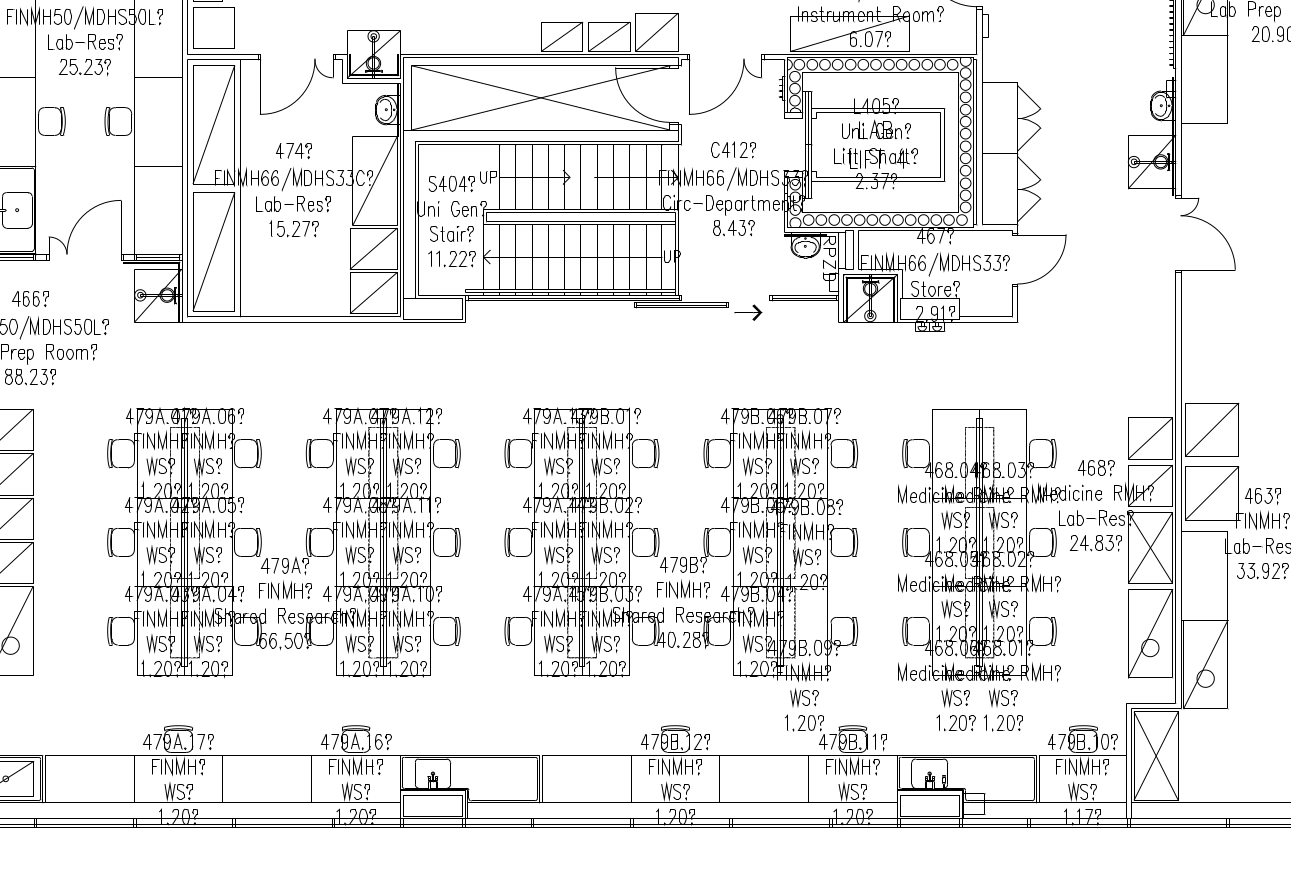door: (66, 193, 126, 260), (256, 52, 316, 119), (683, 49, 743, 116), (608, 66, 668, 125), (1015, 229, 1075, 288), (1179, 214, 1239, 273), (1175, 192, 1205, 216), (742, 55, 769, 81), (308, 55, 335, 81)
